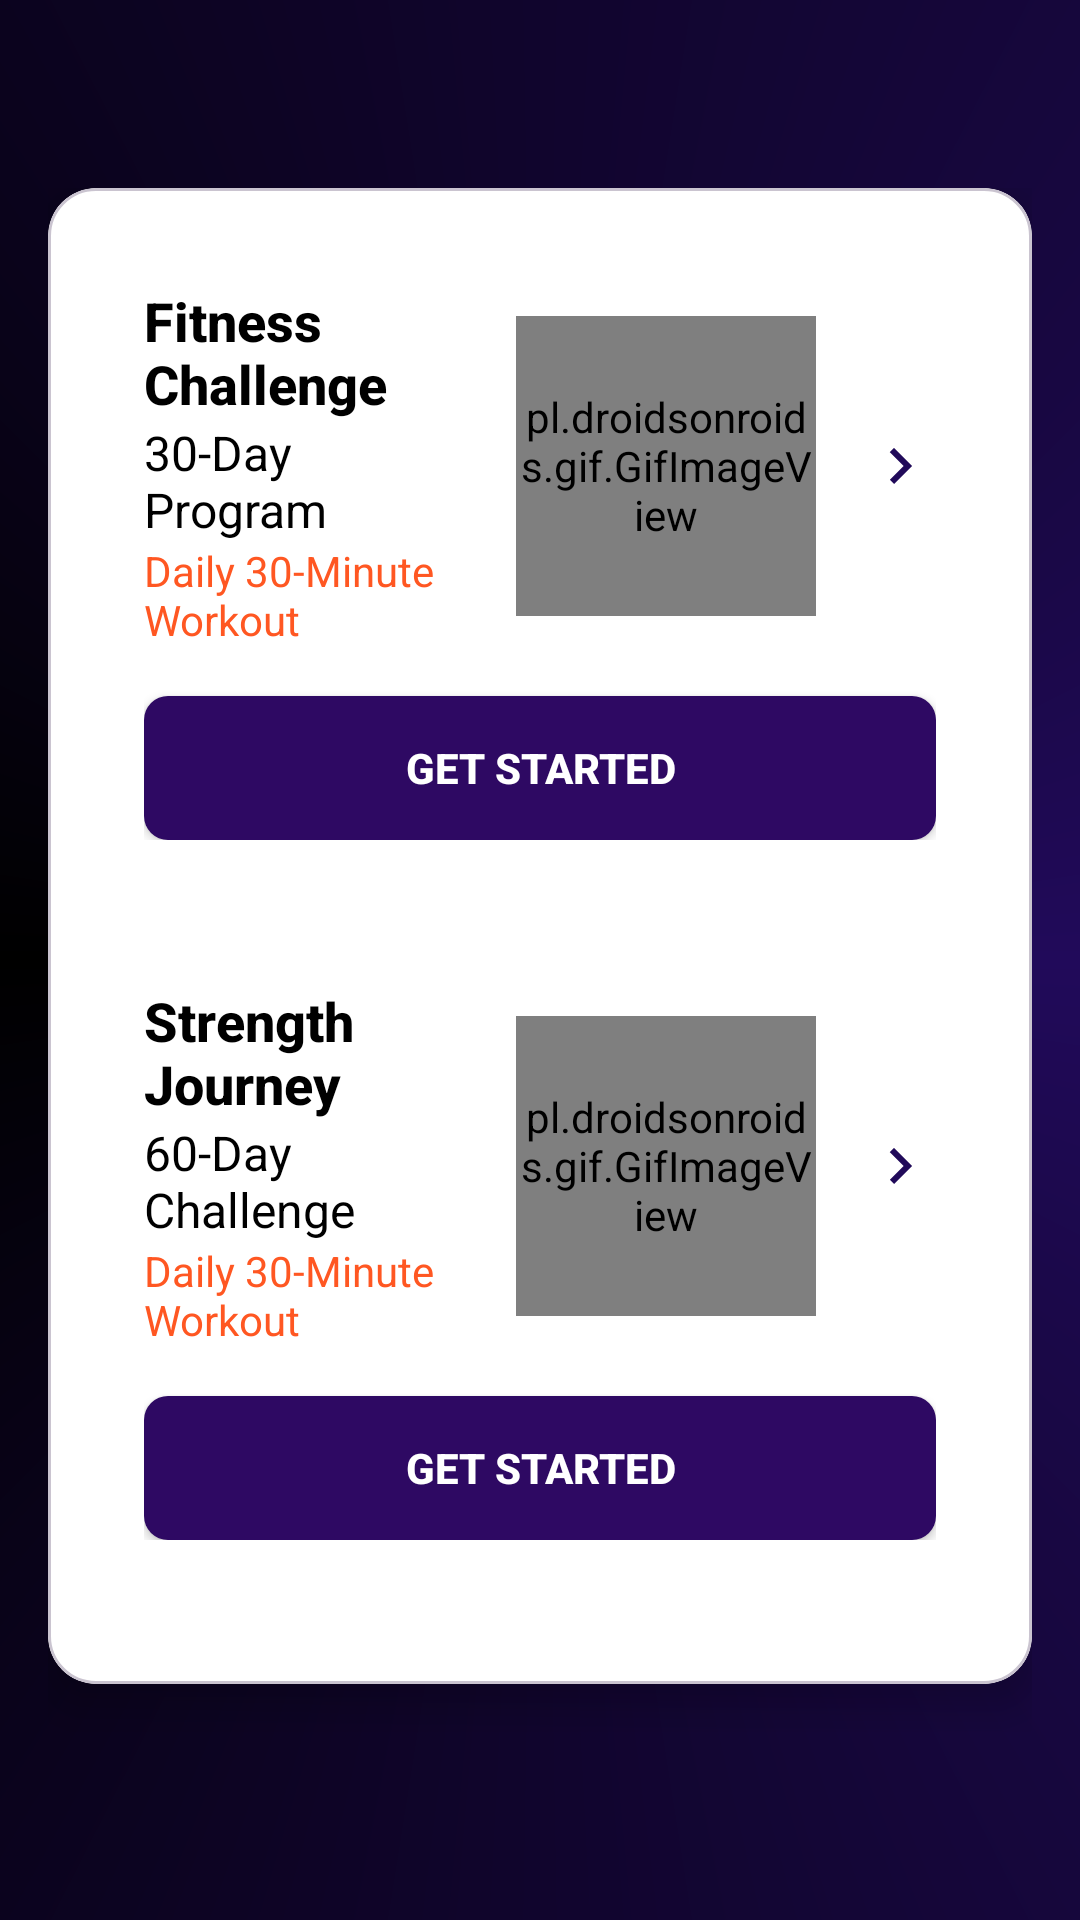

Icons on this 1080x1920 Android screen, each with its box as (x1, y1, x2, y2):
right arrow: (890, 448, 912, 484), (890, 1148, 912, 1184)
